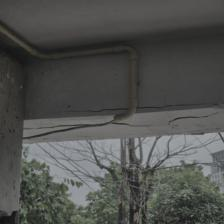High: (23, 102, 224, 139)
